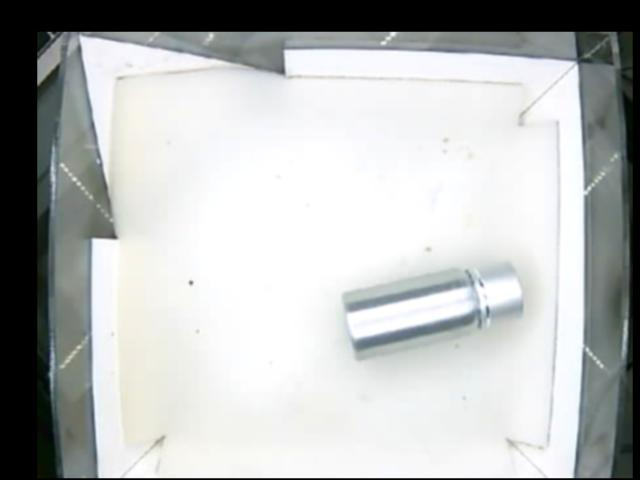Bottle: (340, 258, 525, 361)
